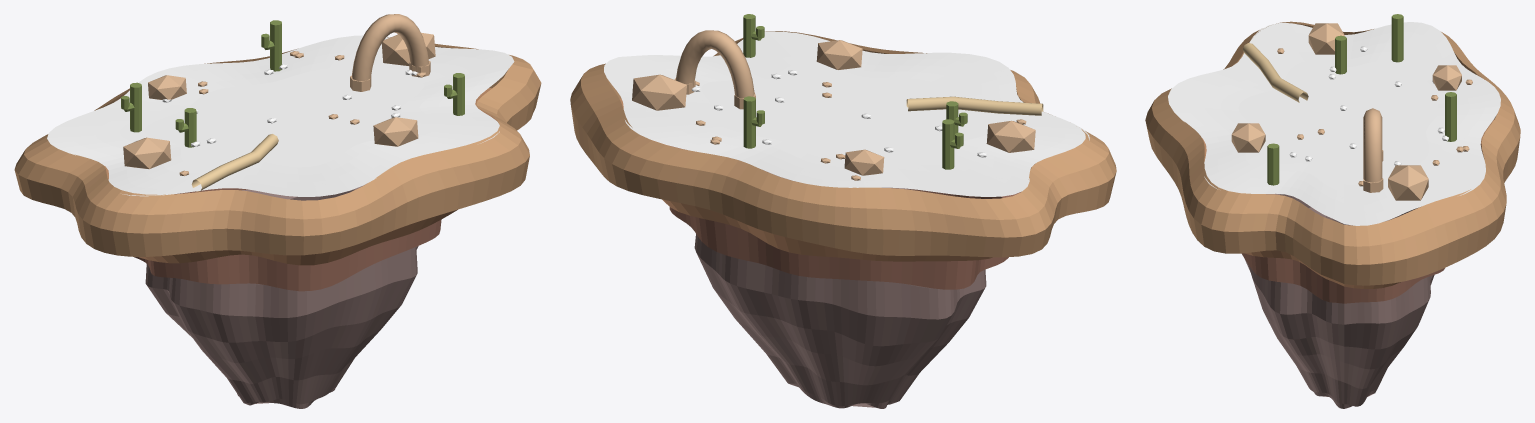
File: FI-021-Sunspine-Mesa.glb
3 views of the same model, side by side, from view 1: azimuth 30°, elevation 25°; view 2: azimuth 150°, elevation 25°; view 3: azimuth 270°, elevation 25° (orthographic). The views are drawn at different scales.
Parts seen in each view (by area): view 1: FI-021_StratifiedFloatingCliff, FI-021_BuildableTop, SunspineNaturalArch, DryWash, SandstoneBoulder_00, SandstoneBoulder_03, SandstoneBoulder_01, SandstoneBoulder_02, Saguaro_02_Trunk, Saguaro_00_Trunk, Saguaro_03_Trunk; view 2: FI-021_StratifiedFloatingCliff, FI-021_BuildableTop, SunspineNaturalArch, DryWash, SandstoneBoulder_01, SandstoneBoulder_00, SandstoneBoulder_03, SandstoneBoulder_02, Saguaro_02_Trunk, Saguaro_00_Trunk, Saguaro_03_Trunk; view 3: FI-021_StratifiedFloatingCliff, FI-021_BuildableTop, SunspineNaturalArch, SandstoneBoulder_01, DryWash, SandstoneBoulder_03, SandstoneBoulder_00, SandstoneBoulder_02, Saguaro_00_Trunk, Saguaro_02_Trunk, Saguaro_03_Trunk, Saguaro_01_Trunk.
Boxes of the visible parts, left/top/right/bottom form: FI-021_StratifiedFloatingCliff: left=14, top=37, right=541, bottom=408; FI-021_BuildableTop: left=47, top=35, right=514, bottom=196; SunspineNaturalArch: left=352, top=14, right=429, bottom=85; DryWash: left=191, top=134, right=278, bottom=191; SandstoneBoulder_00: left=123, top=137, right=171, bottom=169; SandstoneBoulder_03: left=373, top=117, right=418, bottom=146; SandstoneBoulder_01: left=381, top=32, right=435, bottom=65; SandstoneBoulder_02: left=148, top=75, right=186, bottom=99; Saguaro_02_Trunk: left=270, top=20, right=281, bottom=71; Saguaro_00_Trunk: left=130, top=82, right=141, bottom=132; Saguaro_03_Trunk: left=453, top=73, right=464, bottom=115; FI-021_StratifiedFloatingCliff: left=570, top=31, right=1116, bottom=408; FI-021_BuildableTop: left=604, top=31, right=1089, bottom=196; SunspineNaturalArch: left=675, top=30, right=754, bottom=98; DryWash: left=906, top=96, right=1043, bottom=115; SandstoneBoulder_01: left=632, top=74, right=686, bottom=110; SandstoneBoulder_00: left=986, top=120, right=1035, bottom=152; SandstoneBoulder_03: left=816, top=40, right=862, bottom=69; SandstoneBoulder_02: left=844, top=149, right=884, bottom=175; Saguaro_02_Trunk: left=743, top=96, right=755, bottom=148; Saguaro_00_Trunk: left=942, top=119, right=954, bottom=169; Saguaro_03_Trunk: left=743, top=14, right=755, bottom=57; FI-021_StratifiedFloatingCliff: left=1145, top=21, right=1520, bottom=408; FI-021_BuildableTop: left=1168, top=22, right=1500, bottom=225; SunspineNaturalArch: left=1363, top=108, right=1382, bottom=182; SandstoneBoulder_01: left=1388, top=165, right=1428, bottom=200; DryWash: left=1242, top=43, right=1308, bottom=102; SandstoneBoulder_03: left=1231, top=123, right=1265, bottom=152; SandstoneBoulder_00: left=1308, top=23, right=1344, bottom=54; SandstoneBoulder_02: left=1432, top=65, right=1461, bottom=90; Saguaro_00_Trunk: left=1391, top=14, right=1403, bottom=62; Saguaro_02_Trunk: left=1445, top=92, right=1456, bottom=141; Saguaro_03_Trunk: left=1267, top=143, right=1279, bottom=185; Saguaro_01_Trunk: left=1335, top=35, right=1346, bottom=74.
Size of the model in its own units: 15.42 by 10.3 by 10.57.
